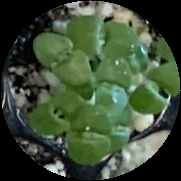Basil: (34, 33, 91, 84), (130, 61, 181, 116), (68, 101, 108, 163), (71, 14, 137, 50), (32, 91, 81, 137), (93, 55, 126, 117)
